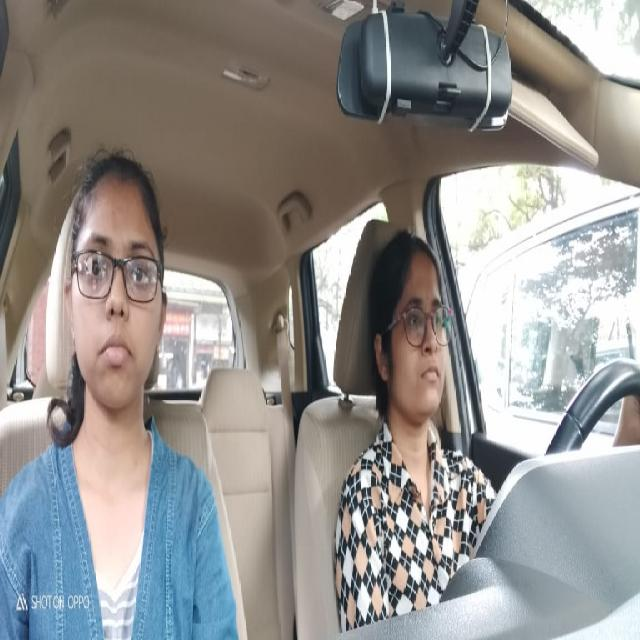person: (75, 166, 161, 409), (374, 242, 449, 418)
